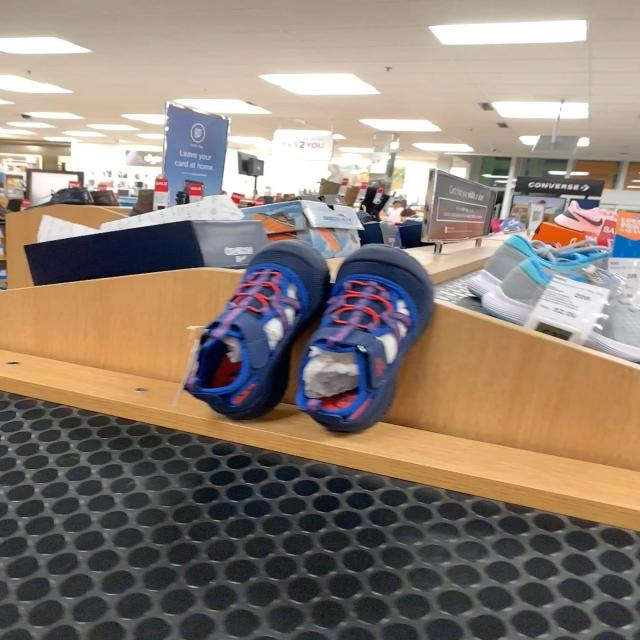shoe: (183, 241, 331, 423), (294, 247, 435, 437)
